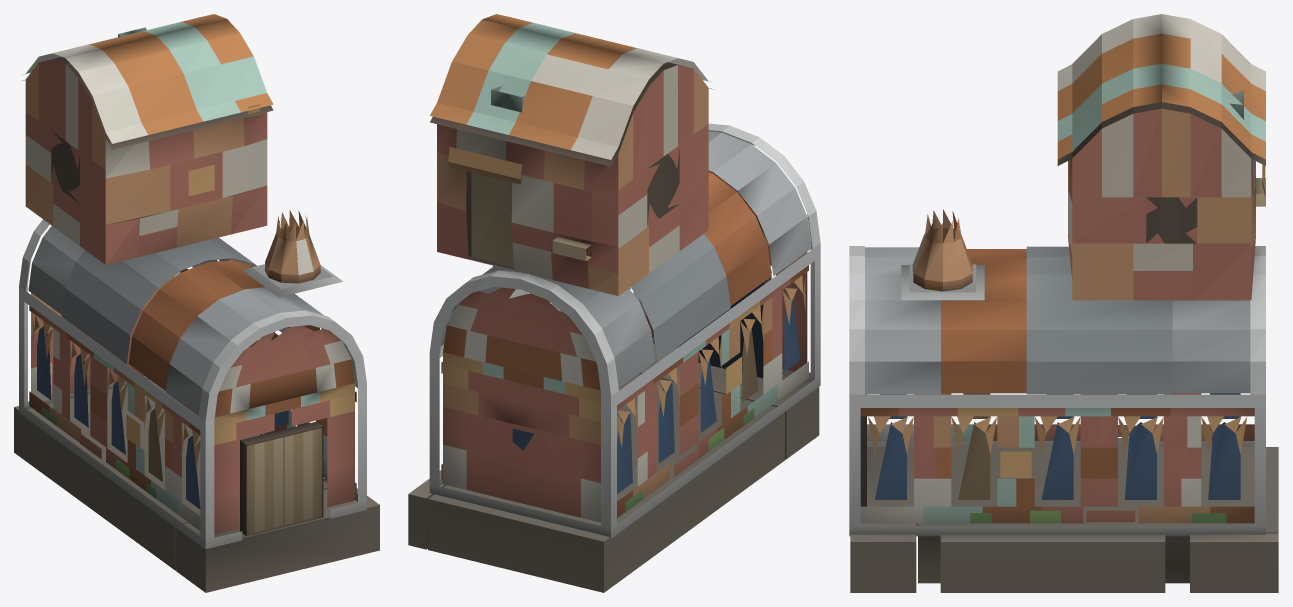
Rendered from hall_cottage.lod.glb.
3 renders of one model, left to right at view 1: azimuth 30°, elevation 25°; view 2: azimuth 150°, elevation 25°; view 3: azimuth 270°, elevation 25°, orthographic. The views are drawn at different scales.
Visible parts, largest first — view 1: hall_cottage; view 2: hall_cottage; view 3: hall_cottage.
Part boxes in pixels (bbox=[...]): hall_cottage: bbox=[14, 14, 379, 592]; hall_cottage: bbox=[408, 14, 820, 592]; hall_cottage: bbox=[849, 14, 1278, 592].
Size of the model in its own units: 4.98 by 11.78 by 9.48.
